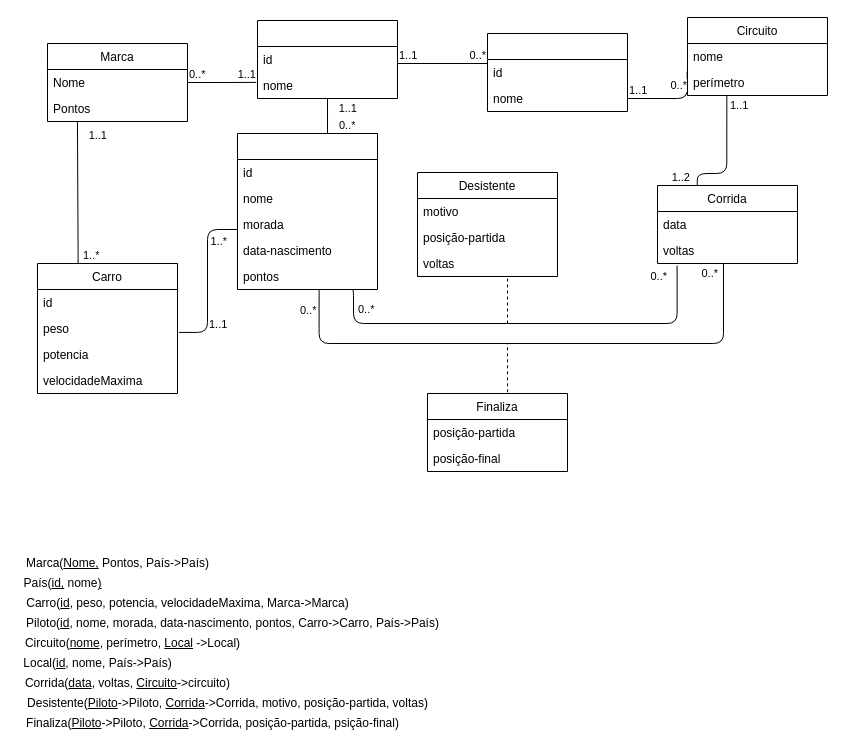
Image size: 845x751. Some labels were removed from this diagram. The box of each missing label's shape, as (x1, y1, x2, y2) in pixels:
Local: (486, 32, 628, 112)
País: (256, 20, 398, 98)
Piloto: (236, 132, 378, 290)
